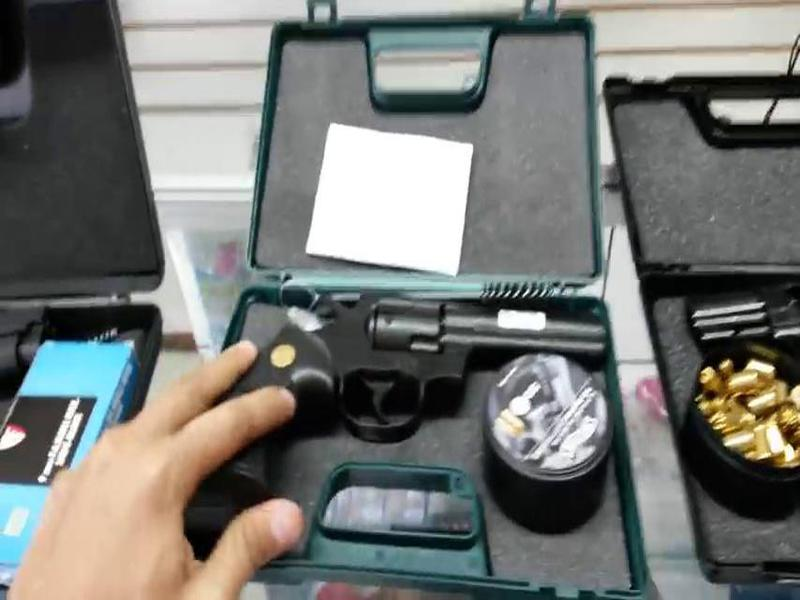Revolver: (217, 270, 619, 508)
